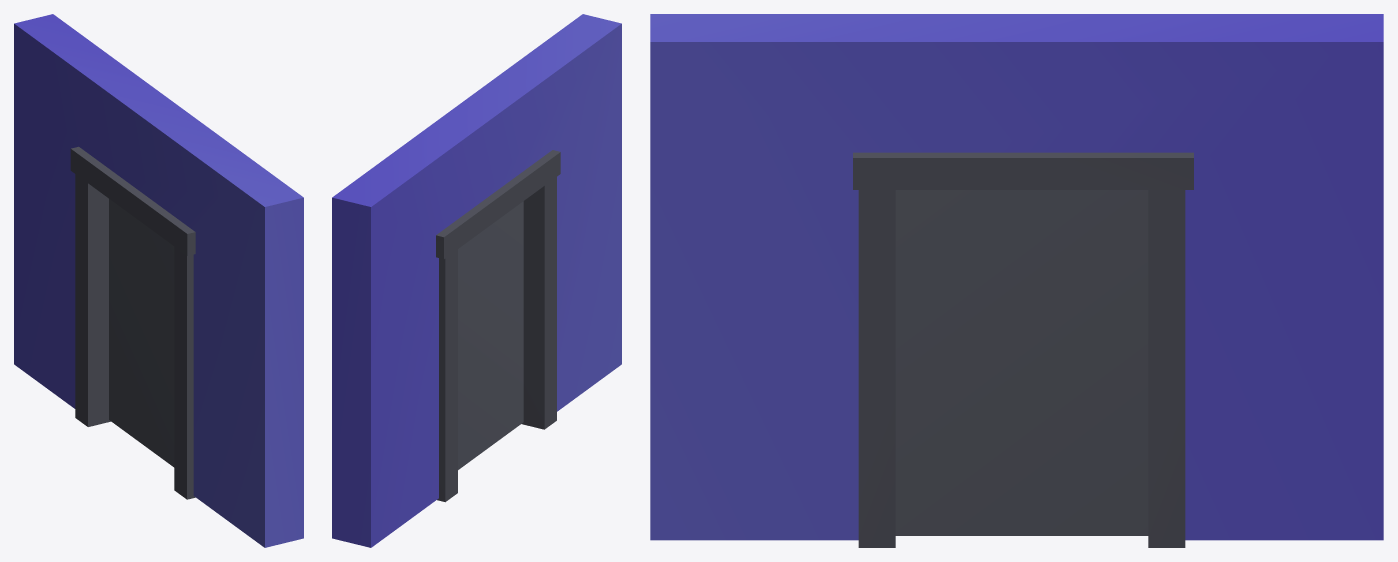
Rendered from GarageWallDoor.fbx.
3 views of the same model, side by side, from view 1: azimuth 30°, elevation 25°; view 2: azimuth 150°, elevation 25°; view 3: azimuth 270°, elevation 25° (orthographic). The views are drawn at different scales.
Visible parts, largest first — view 1: GarageWallDoor, GarageDoor; view 2: GarageWallDoor, GarageDoor; view 3: GarageWallDoor, GarageDoor.
Boxes of the visible parts, x1=… form: GarageWallDoor: x1=14, y1=14, x2=303, y2=547; GarageDoor: x1=109, y1=199, x2=174, y2=467; GarageWallDoor: x1=332, y1=14, x2=621, y2=547; GarageDoor: x1=458, y1=201, x2=523, y2=469; GarageWallDoor: x1=650, y1=14, x2=1383, y2=547; GarageDoor: x1=895, y1=190, x2=1148, y2=535.
Bounding box in the file's own units: 56.78 × 340 × 450.
